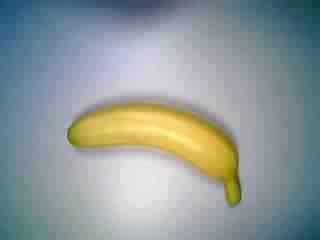banana: (65, 104, 247, 210)
